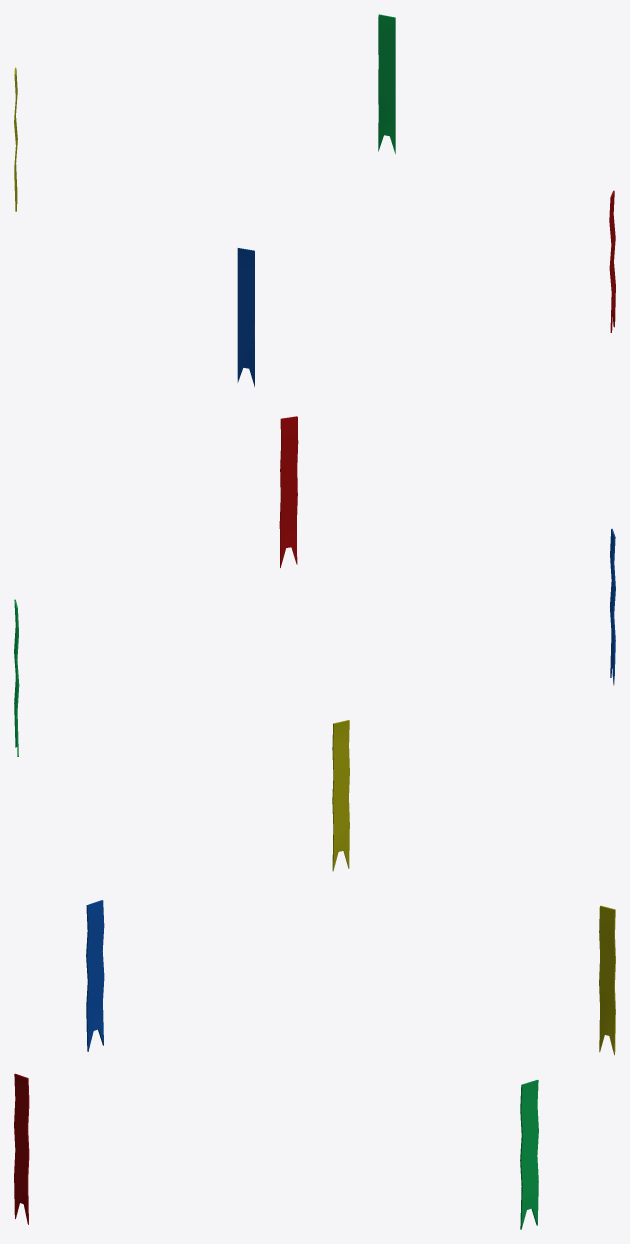
Rendered from Flags.FBX.
The picture shows the model from 3 angles, top to bottom: view 1: azimuth 30°, elevation 25°; view 2: azimuth 150°, elevation 25°; view 3: azimuth 270°, elevation 25°; orthographic projection. The views are drawn at different scales.
Parts seen in each view (by area): view 1: Flags; view 2: Flags; view 3: Flags.
Part boxes in pixels (box(x1,y1,x2,y2)): Flags: box(14, 14, 615, 386); Flags: box(14, 416, 615, 871); Flags: box(14, 900, 615, 1229).
Bounding box in the file's own units: 425 × 157 × 584.
1 material, 1 textured.
